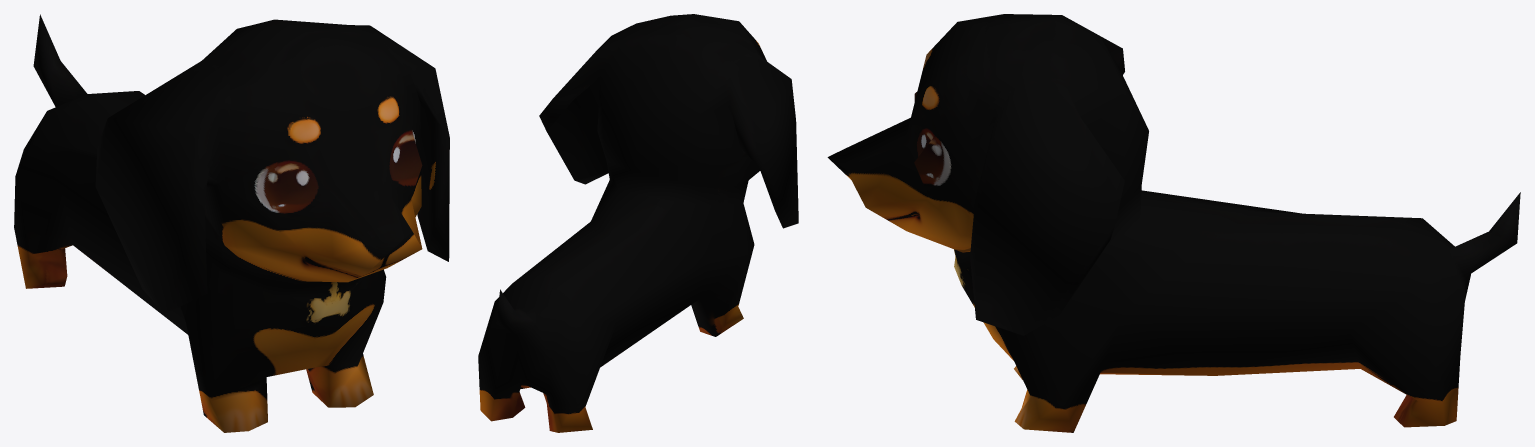
The model's file is dachshund-game-340.glb.
3 views of the same model, side by side, from view 1: azimuth 30°, elevation 25°; view 2: azimuth 150°, elevation 25°; view 3: azimuth 270°, elevation 25° (orthographic). The views are drawn at different scales.
Visible parts, largest first — view 1: material; view 2: material; view 3: material.
Boxes of the visible parts, <box> form: material: <box>14,14,449,432</box>; material: <box>478,14,798,432</box>; material: <box>827,14,1520,432</box>.
Bounding box in the file's own units: 0.5966 × 0.713 × 1.18.
Materials: 1 (1 with a texture image).
